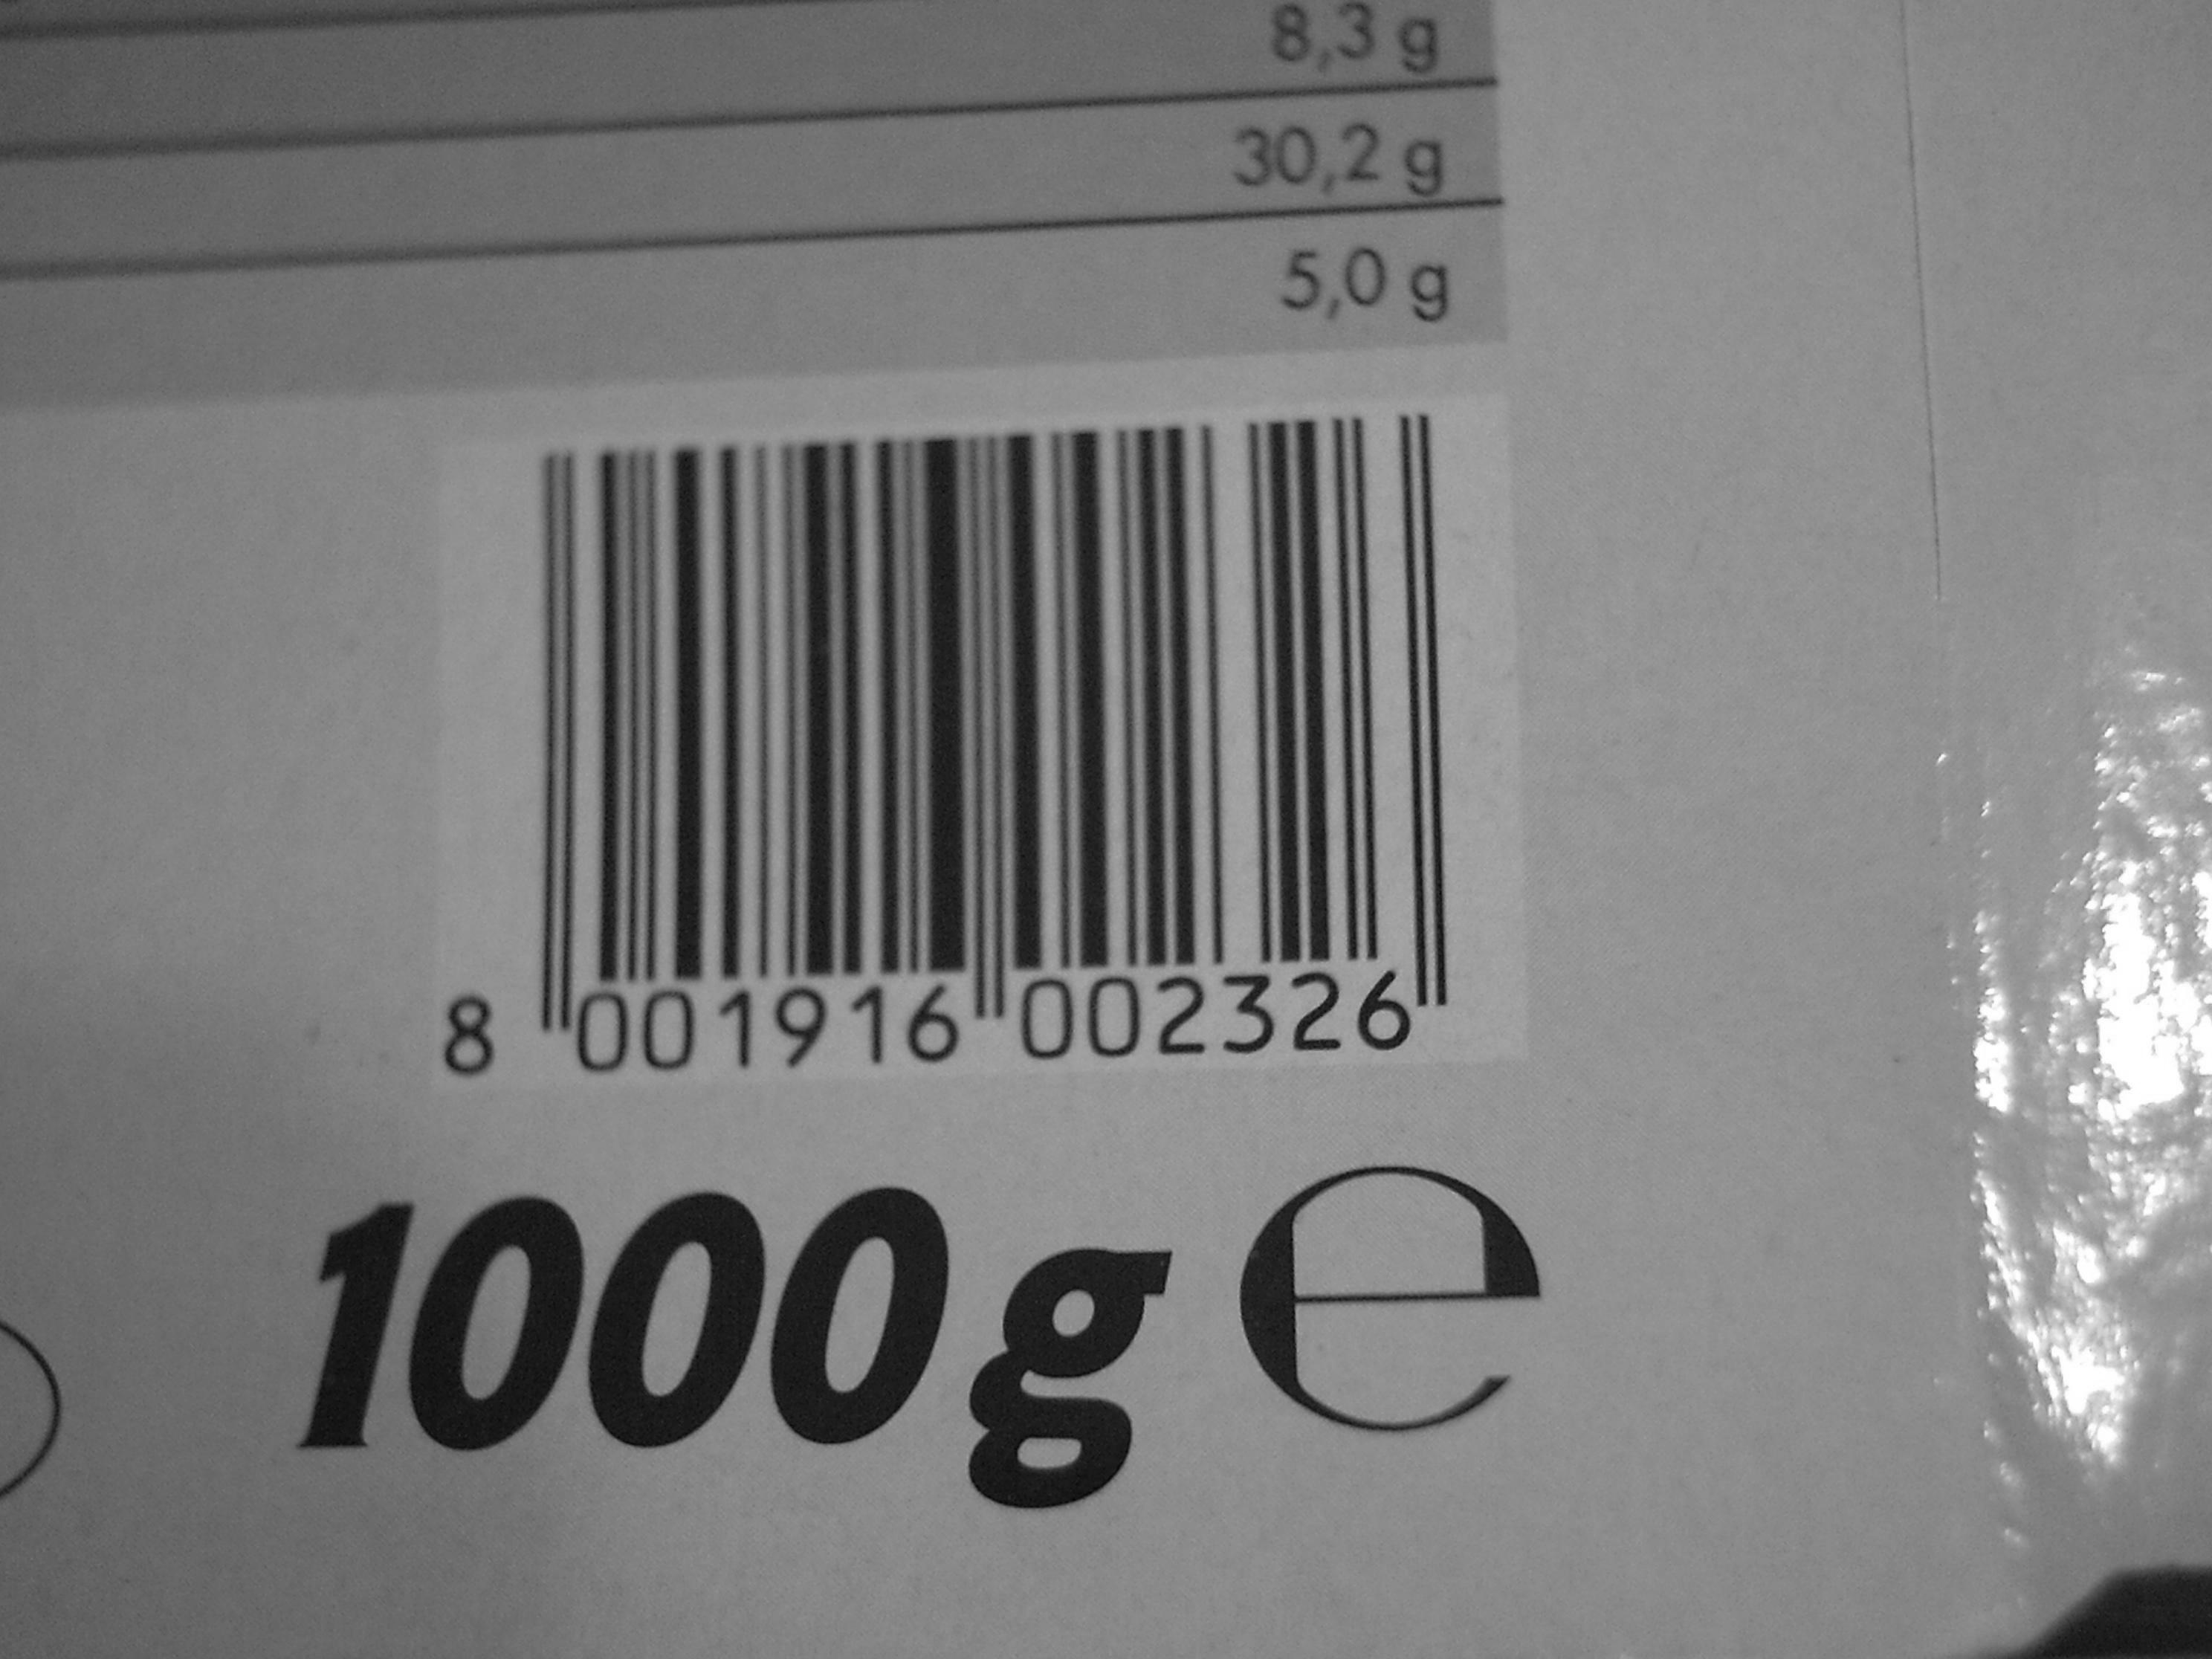Barcode: (482, 391, 1506, 1074)
